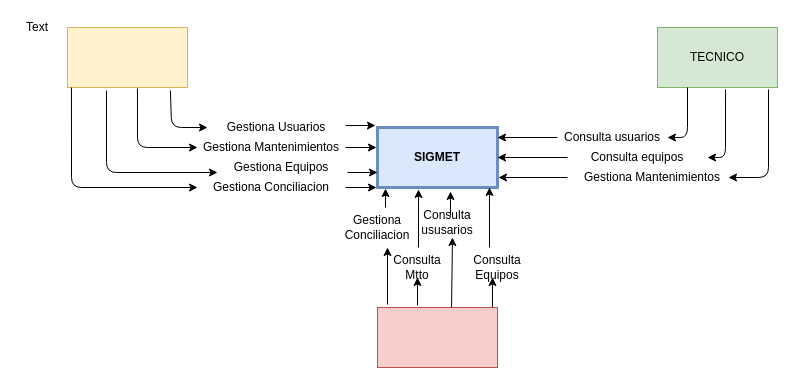
This 795x385 diagram has some shape labels left out. Each missing label, with the centre of its shape:
COORDINADOR: [127,57]
INTERVENTOR: [437,337]
